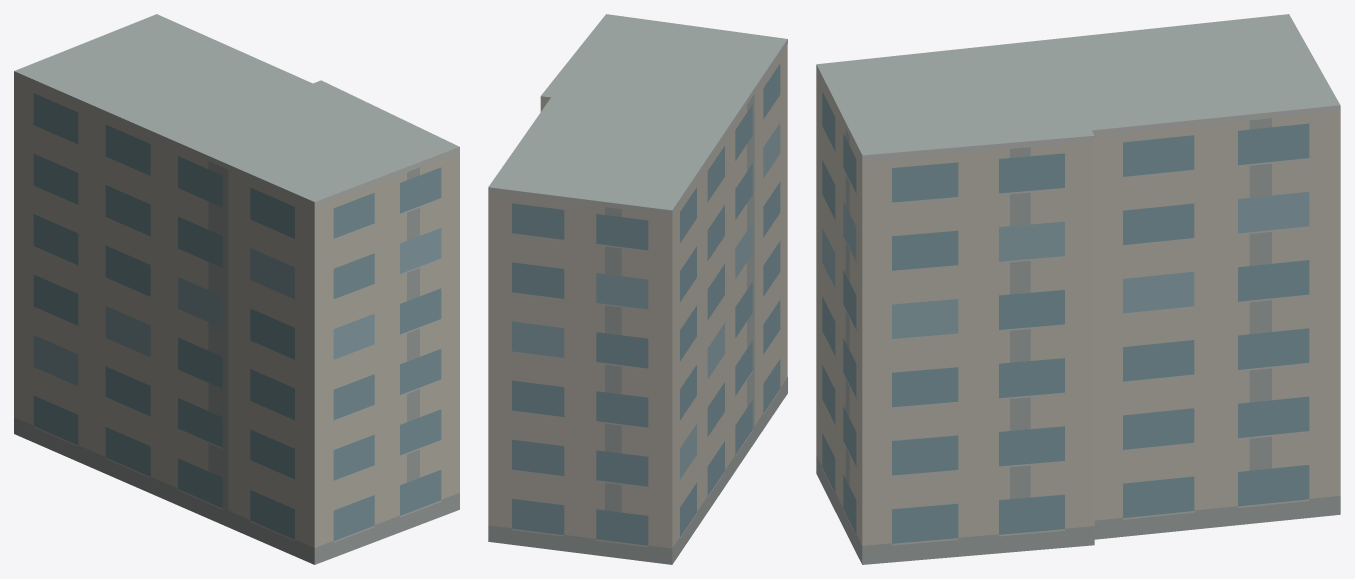
Rendered from survey-upis-32929238.glb.
3 renders of one model, left to right at view 1: azimuth 30°, elevation 25°; view 2: azimuth 150°, elevation 25°; view 3: azimuth 270°, elevation 25°, orthographic. The views are drawn at different scales.
Parts seen in each view (by area): view 1: survey-upis-32929238.tmp; view 2: survey-upis-32929238.tmp; view 3: survey-upis-32929238.tmp.
Part boxes in pixels (x1,y1,x2,y2): survey-upis-32929238.tmp: (14, 14, 459, 564); survey-upis-32929238.tmp: (488, 14, 787, 564); survey-upis-32929238.tmp: (816, 14, 1340, 564).
Bounding box in the file's own units: 12.41 × 16.75 × 19.44.
